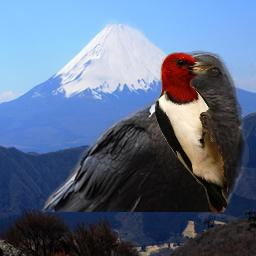Crow: (39, 49, 249, 212)
Woodpecker: (154, 52, 228, 213)
